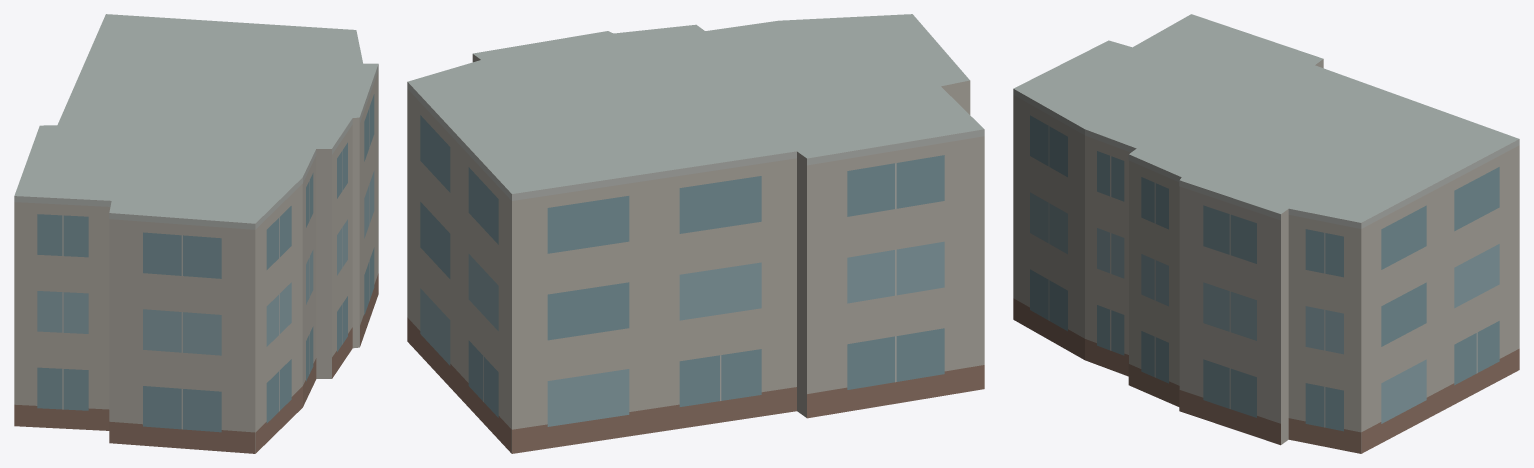
File: survey-upis-32677964.glb
3 views of the same model, side by side, from view 1: azimuth 30°, elevation 25°; view 2: azimuth 150°, elevation 25°; view 3: azimuth 270°, elevation 25° (orthographic). The views are drawn at different scales.
Visible parts, largest first — view 1: survey-upis-32677964.tmp; view 2: survey-upis-32677964.tmp; view 3: survey-upis-32677964.tmp.
Part boxes in pixels (x1=…): survey-upis-32677964.tmp: x1=14, y1=14, x2=378, y2=453; survey-upis-32677964.tmp: x1=407, y1=14, x2=984, y2=453; survey-upis-32677964.tmp: x1=1013, y1=14, x2=1519, y2=453.
Size of the model in its own units: 17.76 by 9.15 by 18.19.
